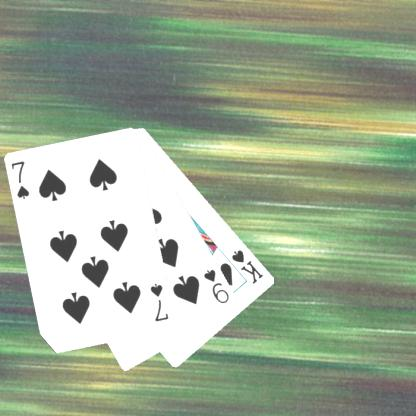7S: (8, 158, 31, 201), (148, 281, 171, 323)
9S: (201, 266, 231, 306)
KS: (229, 247, 265, 285)
